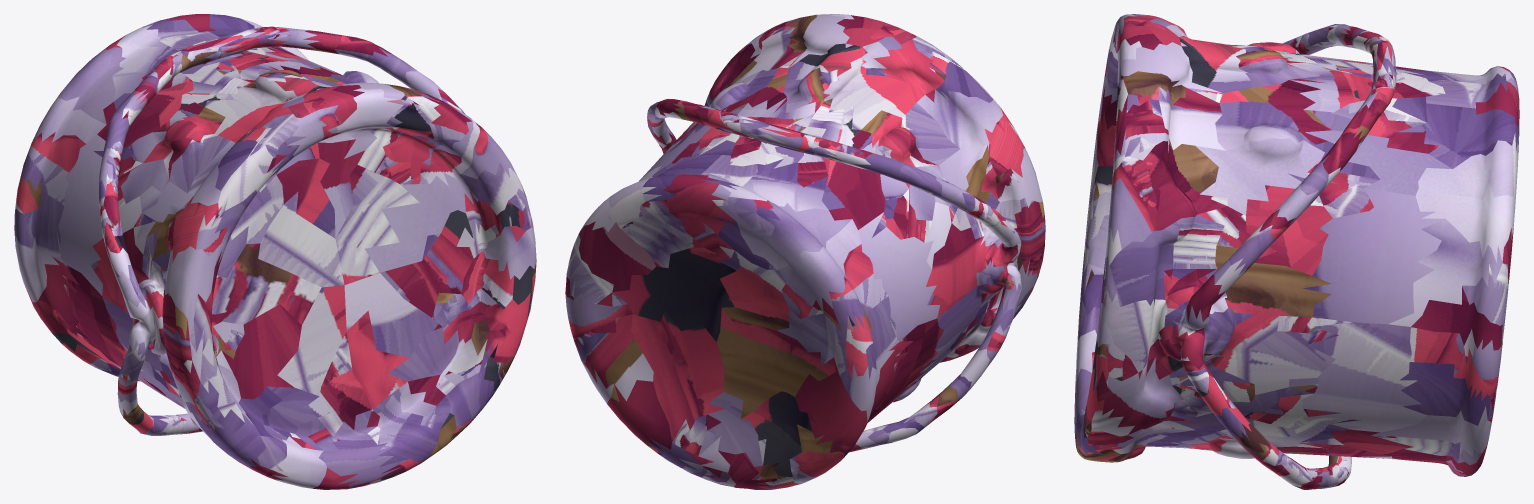
Rendered from bario.fbx.
3 renders of one model, left to right at view 1: azimuth 30°, elevation 25°; view 2: azimuth 150°, elevation 25°; view 3: azimuth 270°, elevation 25°, orthographic. The views are drawn at different scales.
Visible parts, largest first — view 1: Mesh_0; view 2: Mesh_0; view 3: Mesh_0.
Boxes of the visible parts, <box> form: Mesh_0: <box>14,14,536,489</box>; Mesh_0: <box>565,14,1045,489</box>; Mesh_0: <box>1074,14,1519,489</box>.
Bounding box in the file's own units: 4310 × 4202 × 3978.
